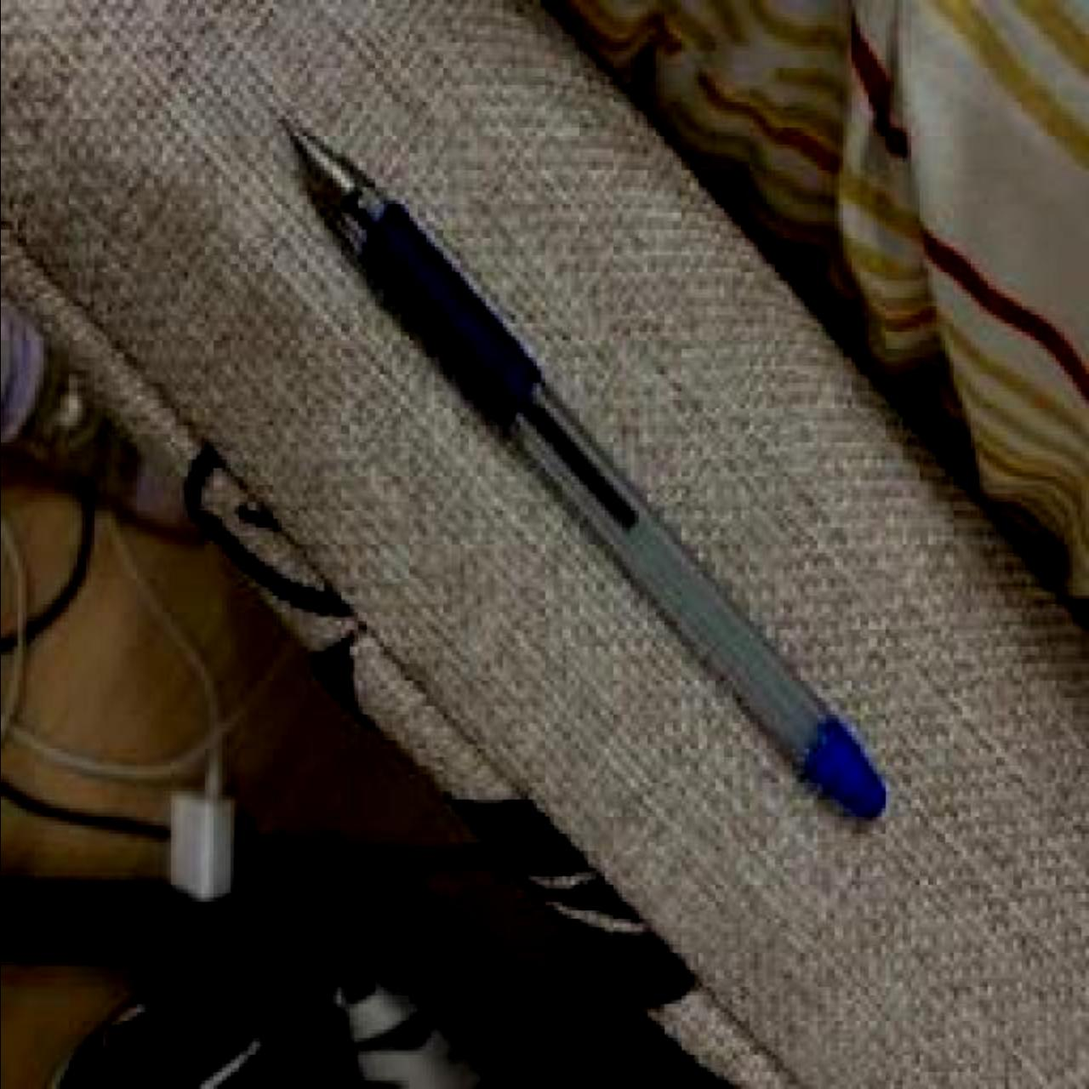pen: (271, 119, 888, 825)
